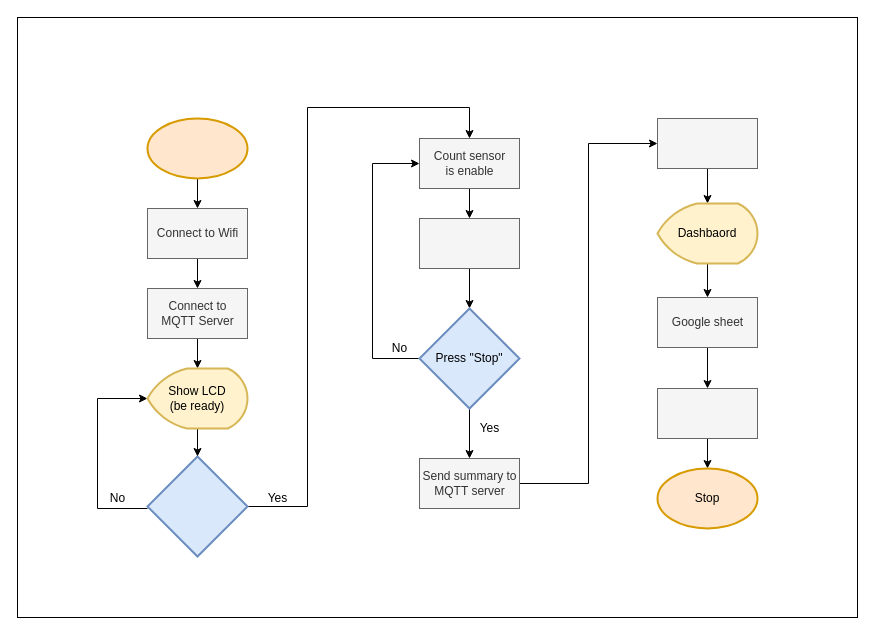
Image size: 875x635. Some labels were removed from this diagram. The centre of each missing label's shape, as x and y in pixels:
Line notify: (x=707, y=413)
Node-red server Subscribe: (x=707, y=143)
Press "Start": (x=197, y=506)
Send data to MQTT server: (x=469, y=243)
Start: (x=197, y=148)
